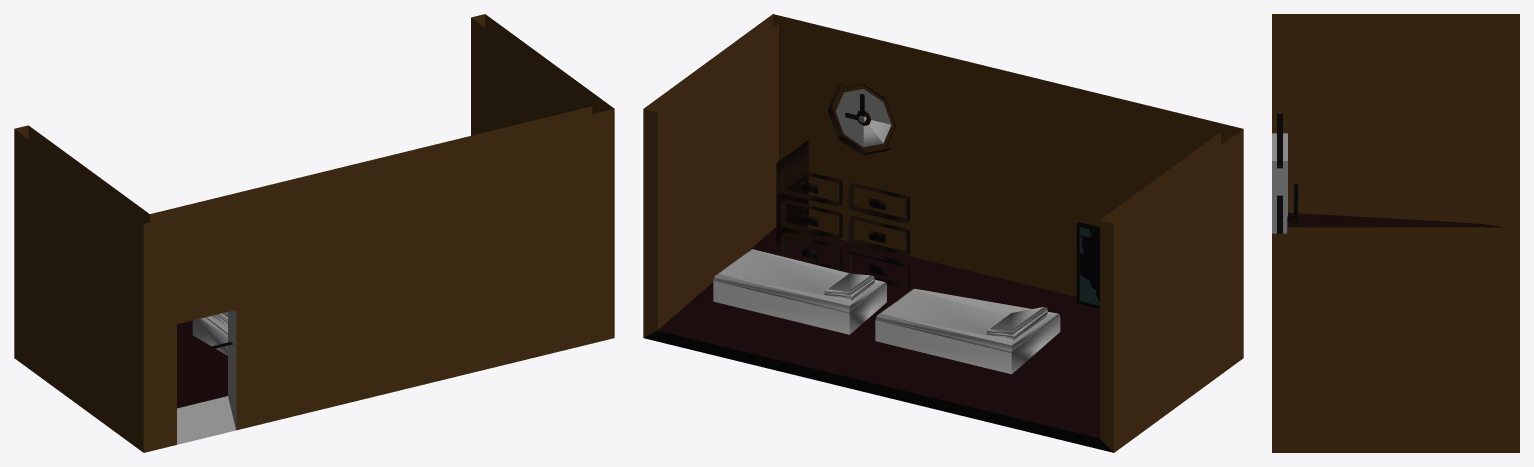
File: myhome2.FBX
3 renders of one model, left to right at view 1: azimuth 30°, elevation 25°; view 2: azimuth 150°, elevation 25°; view 3: azimuth 270°, elevation 25°, orthographic. The views are drawn at different scales.
Parts seen in each view (by area): view 1: Box008; view 2: Box008; view 3: Box008.
Part boxes in pixels (box(x1,y1,x2,y2)): Box008: box(14, 14, 614, 452); Box008: box(643, 14, 1243, 452); Box008: box(1272, 14, 1519, 452).
Size of the model in its own units: 1023 by 476 by 487.
